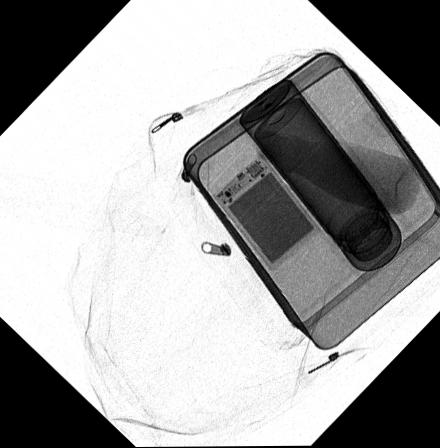Powerbank: (210, 152, 319, 271)
